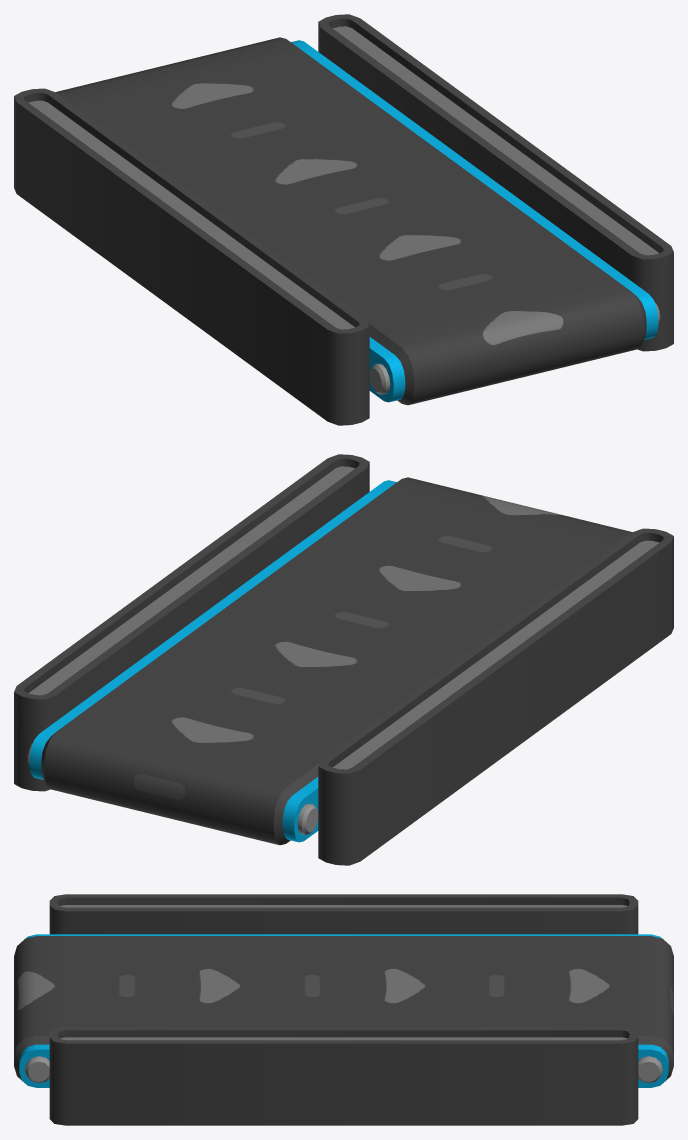
Rendered from Conveyor_Belt_S01_Cap_A.fbx.
The picture shows the model from 3 angles, top to bottom: view 1: azimuth 30°, elevation 25°; view 2: azimuth 150°, elevation 25°; view 3: azimuth 270°, elevation 25°; orthographic projection. The views are drawn at different scales.
Parts seen in each view (by area): view 1: Conveyor_Belt_S01_Cap_A; view 2: Conveyor_Belt_S01_Cap_A; view 3: Conveyor_Belt_S01_Cap_A.
Part boxes in pixels (x1=…): Conveyor_Belt_S01_Cap_A: x1=14, y1=14, x2=673, y2=425; Conveyor_Belt_S01_Cap_A: x1=14, y1=454, x2=673, y2=865; Conveyor_Belt_S01_Cap_A: x1=14, y1=894, x2=673, y2=1125.
Size of the model in its own units: 128 by 32.6 by 238.
